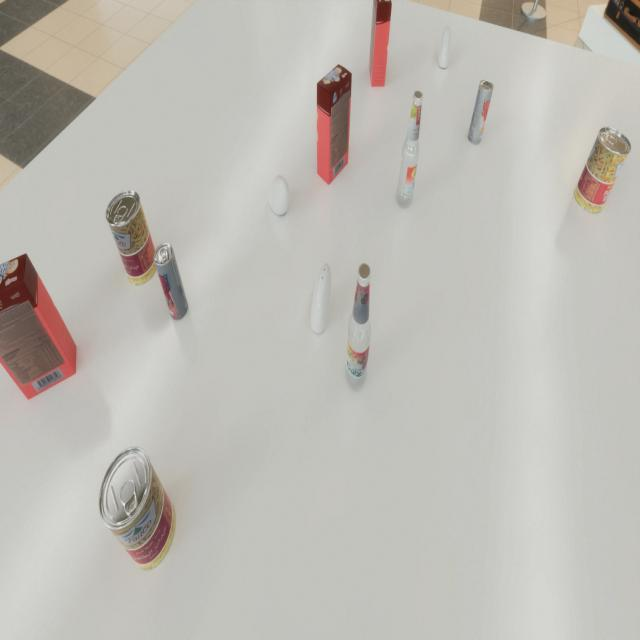Bottle: (344, 263, 372, 391), (396, 90, 423, 208)
HelloPanda: (0, 253, 76, 399), (317, 64, 352, 185), (369, 0, 392, 87)
Potato_sticks: (98, 446, 176, 570), (574, 127, 631, 214), (106, 190, 158, 285)
Rita_zero_sugar: (153, 242, 188, 320), (468, 80, 494, 144)
Salt: (311, 263, 332, 333), (269, 175, 290, 215), (438, 25, 451, 68)
